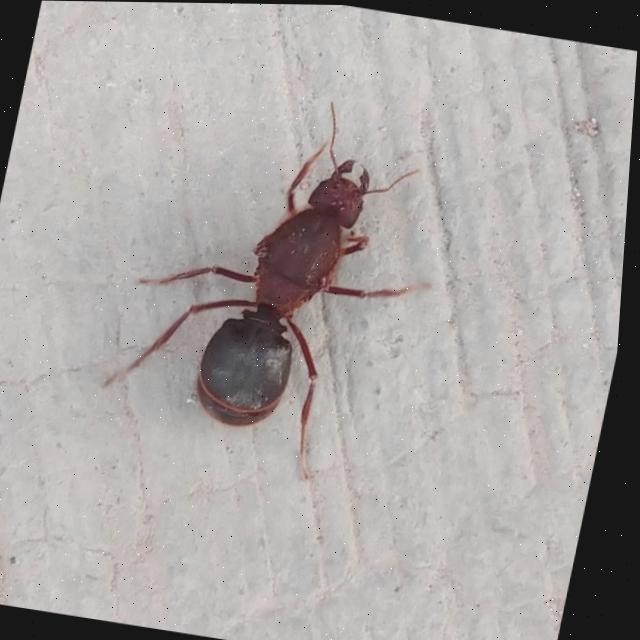Alive-Female-Dealate: (96, 73, 468, 492)
